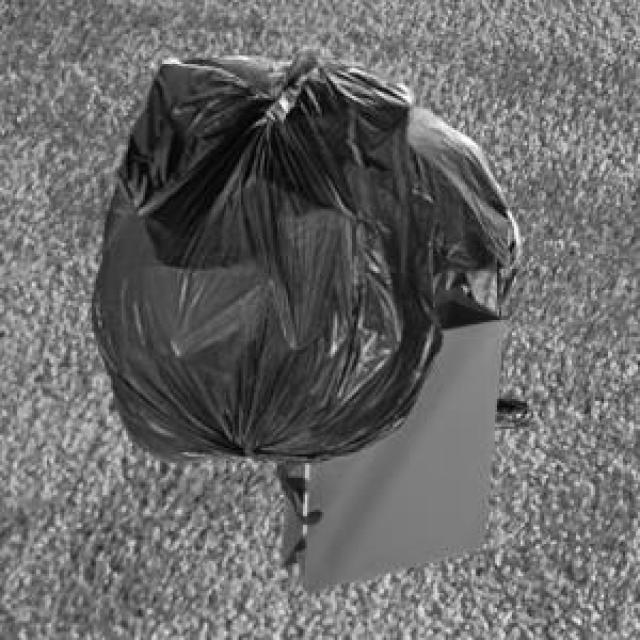miscellaneous trash: (88, 43, 437, 461), (401, 102, 531, 425)
paper: (273, 286, 499, 589)
